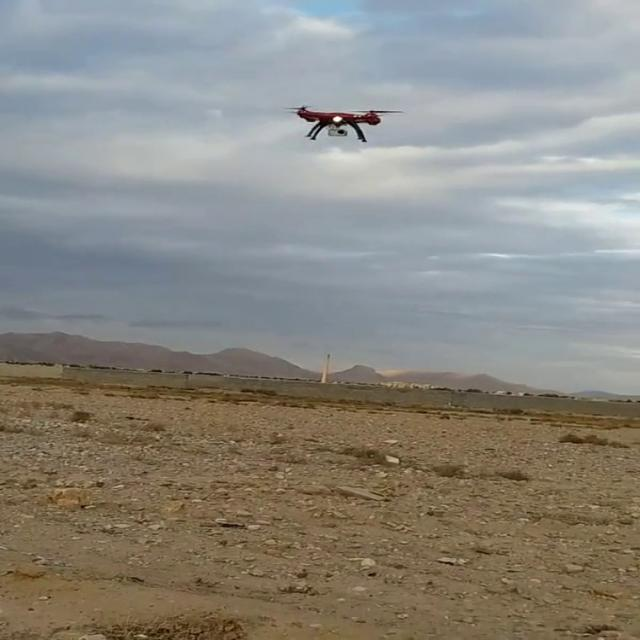drone: (284, 104, 400, 143)
